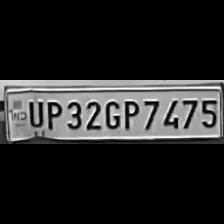2: (82, 97, 102, 130)
3: (62, 97, 82, 130)
4: (158, 96, 180, 130)
5: (196, 96, 218, 128)
7: (140, 97, 158, 131), (178, 97, 196, 129)
G: (102, 98, 120, 130)
P: (121, 97, 139, 131), (43, 98, 62, 130)
U: (24, 98, 43, 128)
